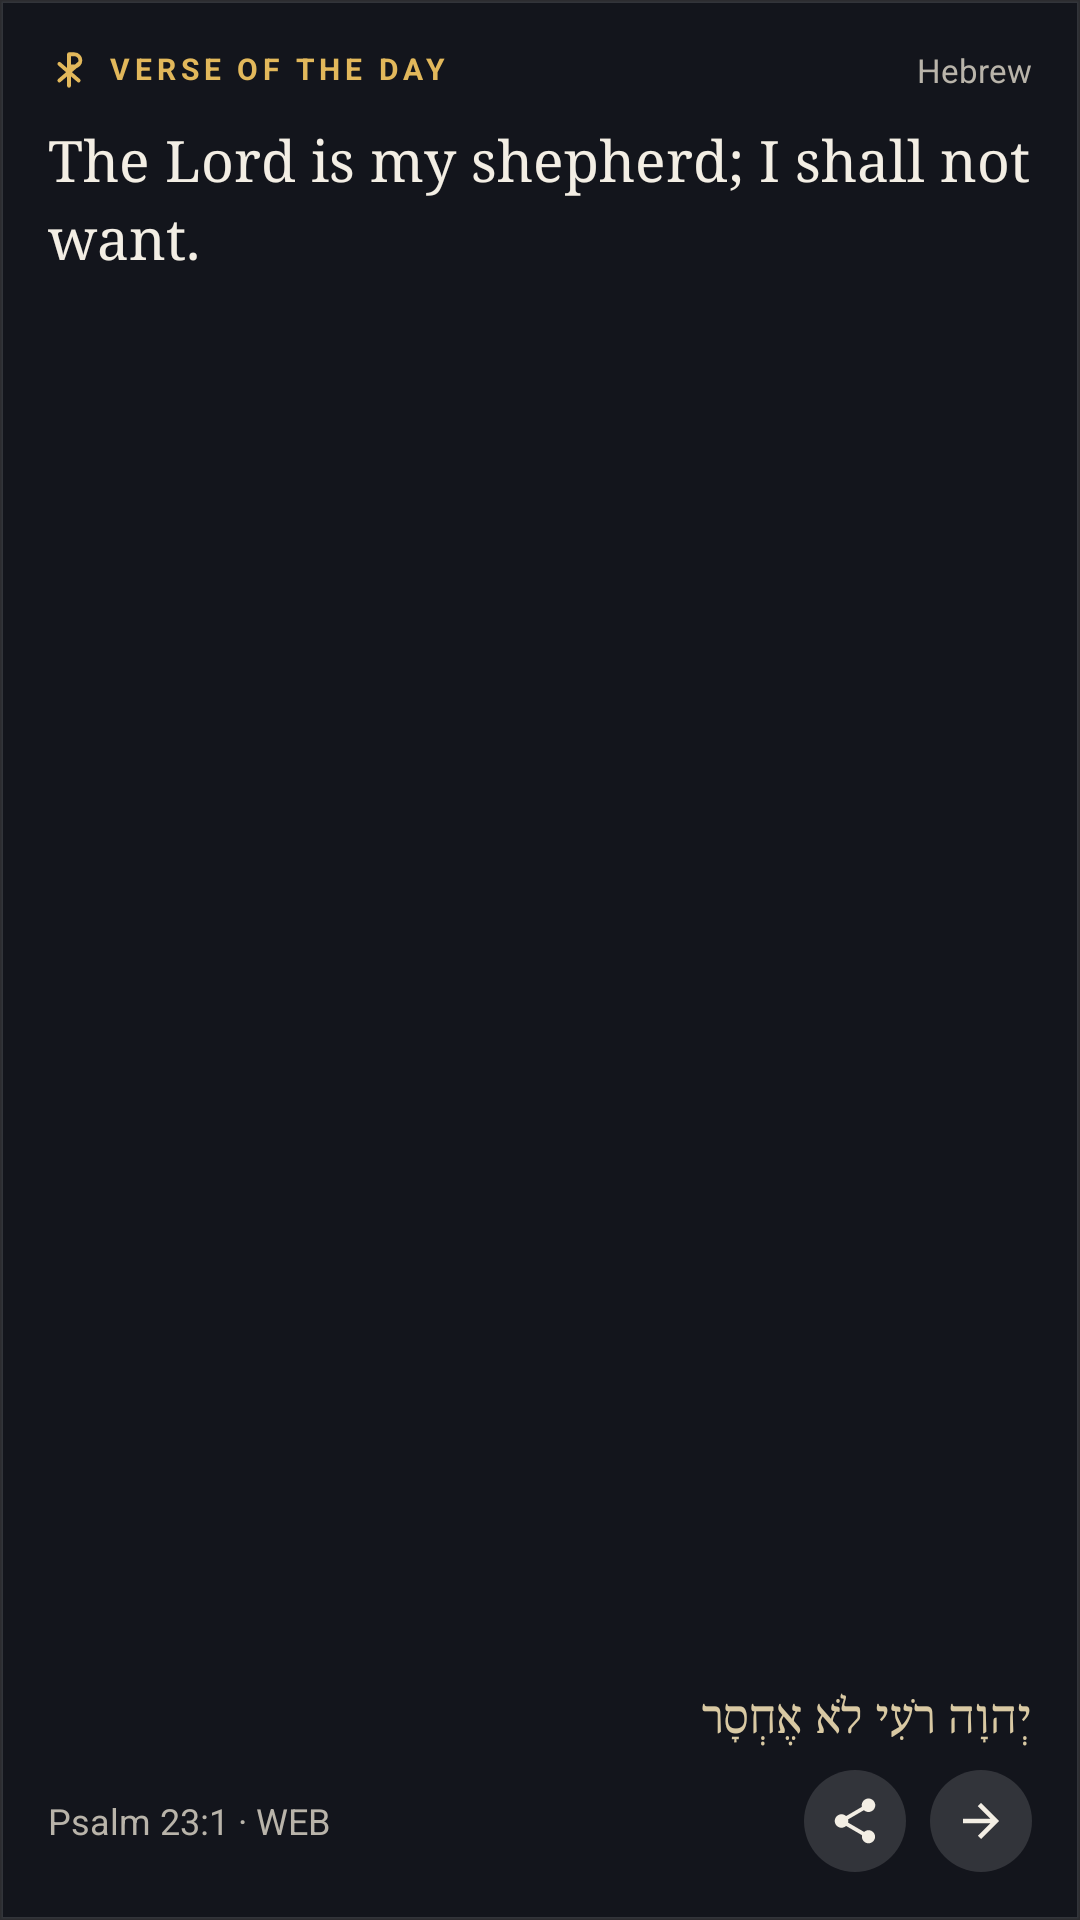

Screen size 1080 x 1920. Icon name, then its box in pixels as (x1, y1, x2, y2):
Next: (930, 1770, 1032, 1872)
Share: (804, 1770, 906, 1872)
